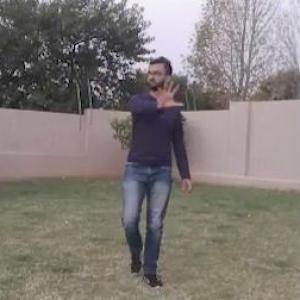follow_hand: (150, 73, 187, 112)
